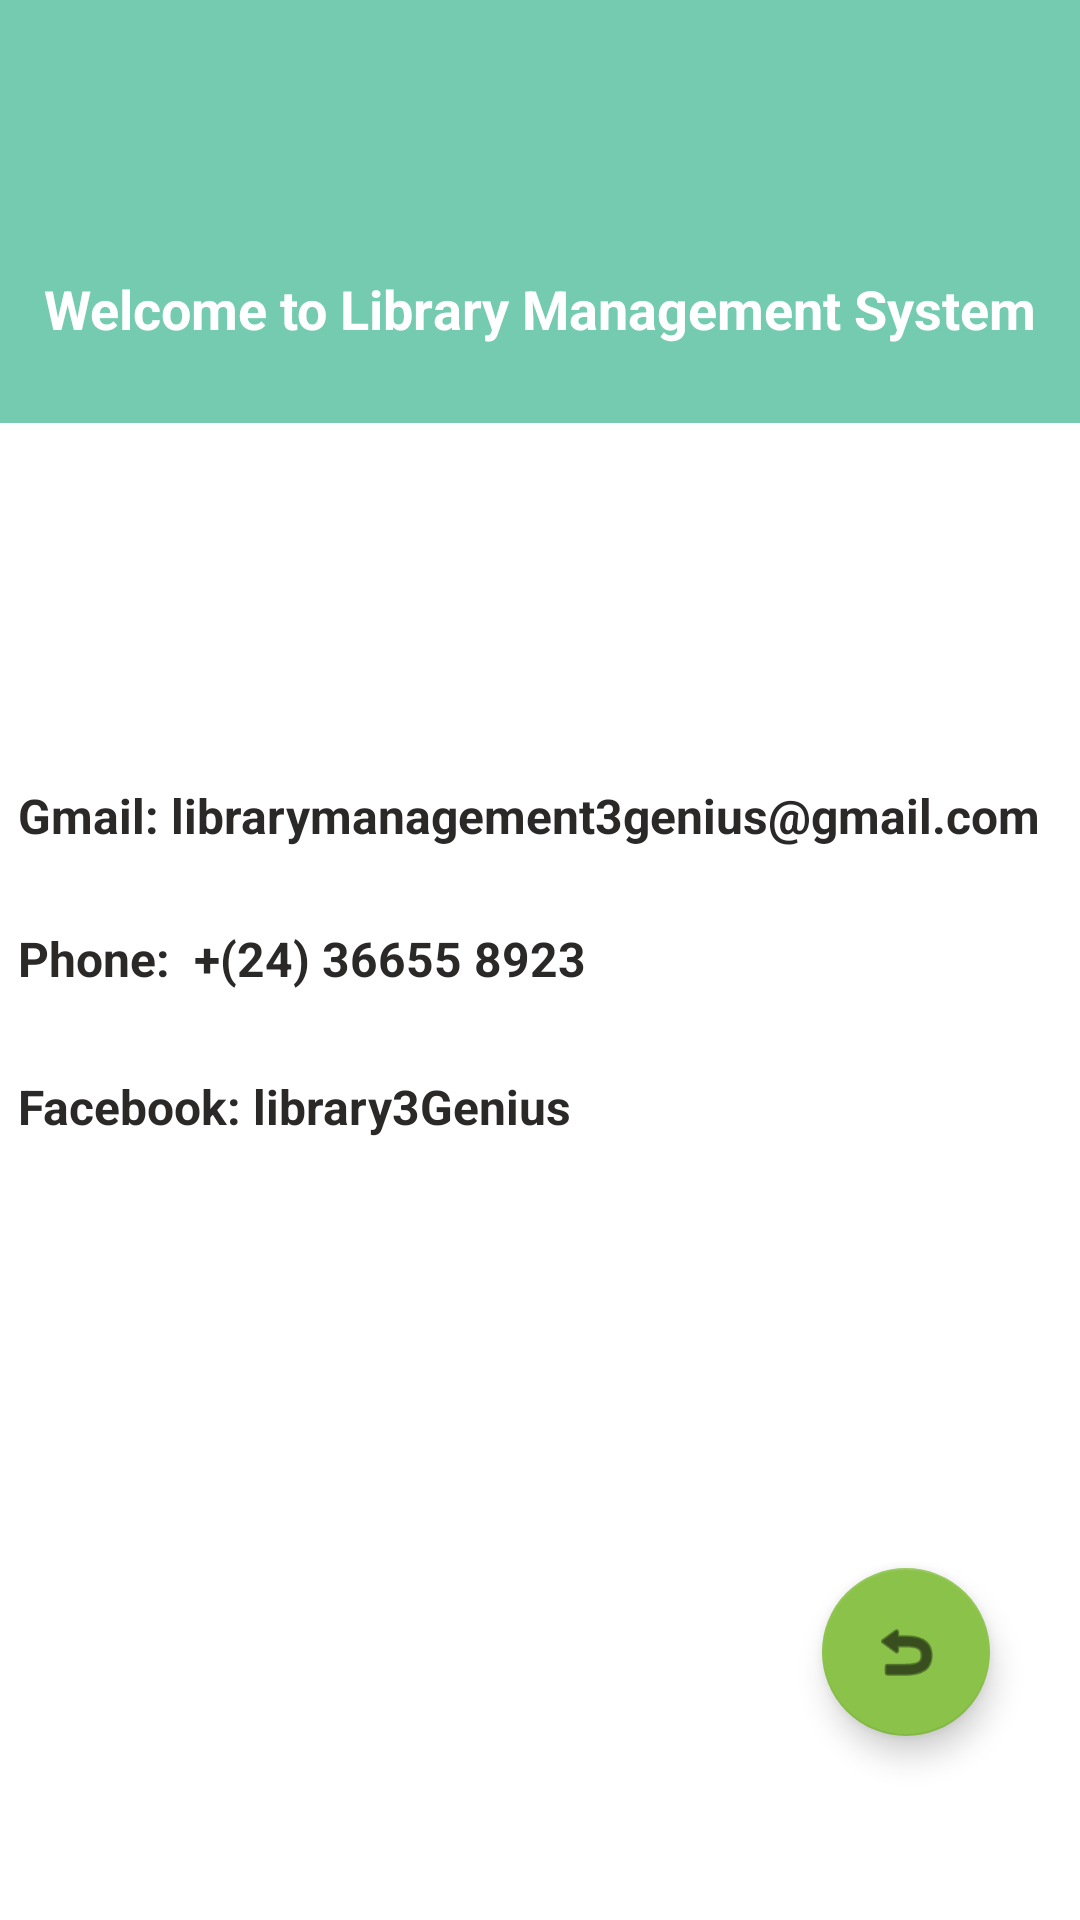

Locate icon controls on the screen. Image size 1080*1920, boxes as box(x1, y1, x2, y2).
revert: box(822, 1568, 990, 1736)
